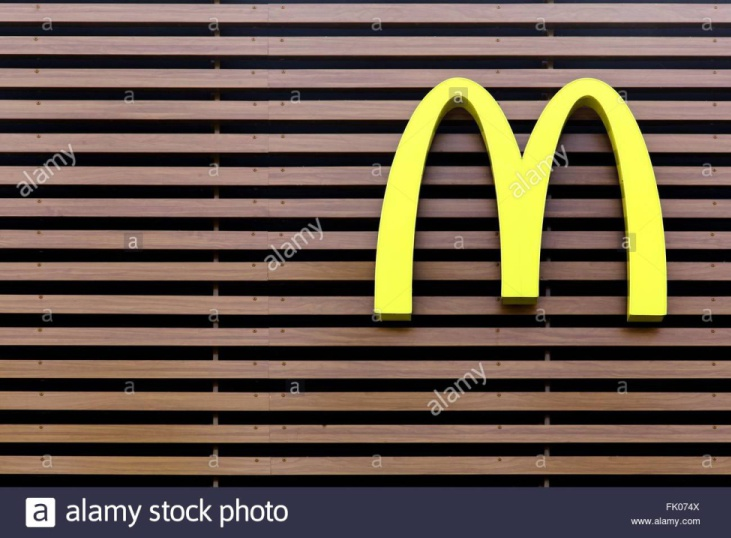mcdonalds: (348, 62, 684, 330)
